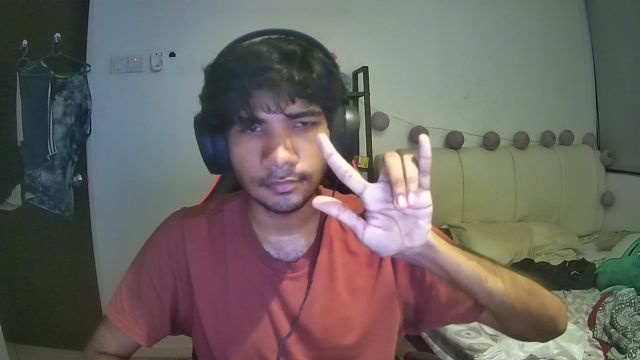I Love You: (308, 126, 441, 261)
